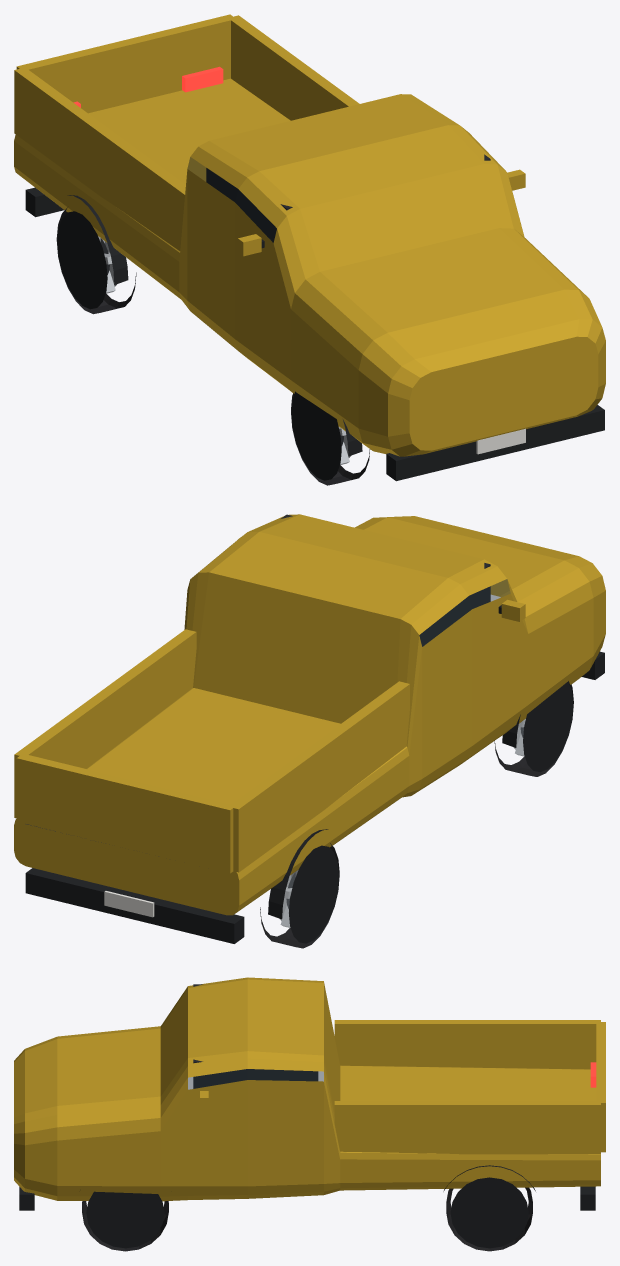
The model's file is pickup.glb.
3 renders of one model, top to bottom at view 1: azimuth 30°, elevation 25°; view 2: azimuth 150°, elevation 25°; view 3: azimuth 270°, elevation 25°, orthographic. The views are drawn at different scales.
Parts seen in each view (by area): view 1: body, wheel_RL, wheel_FL; view 2: body, wheel_RL, wheel_FL; view 3: body, wheel_RR, wheel_FR.
Part boxes in pixels (<box>): body: <box>14,14,605,481</box>; wheel_RL: <box>56,207,136,314</box>; wheel_FL: <box>291,391,370,485</box>; body: <box>14,514,605,943</box>; wheel_RL: <box>260,843,339,948</box>; wheel_FL: <box>494,681,573,776</box>; body: <box>14,977,605,1210</box>; wheel_RR: <box>446,1177,532,1251</box>; wheel_FR: <box>82,1191,168,1251</box>.
Bounding box in the file's own units: 2.33 × 1.96 × 5.44.
